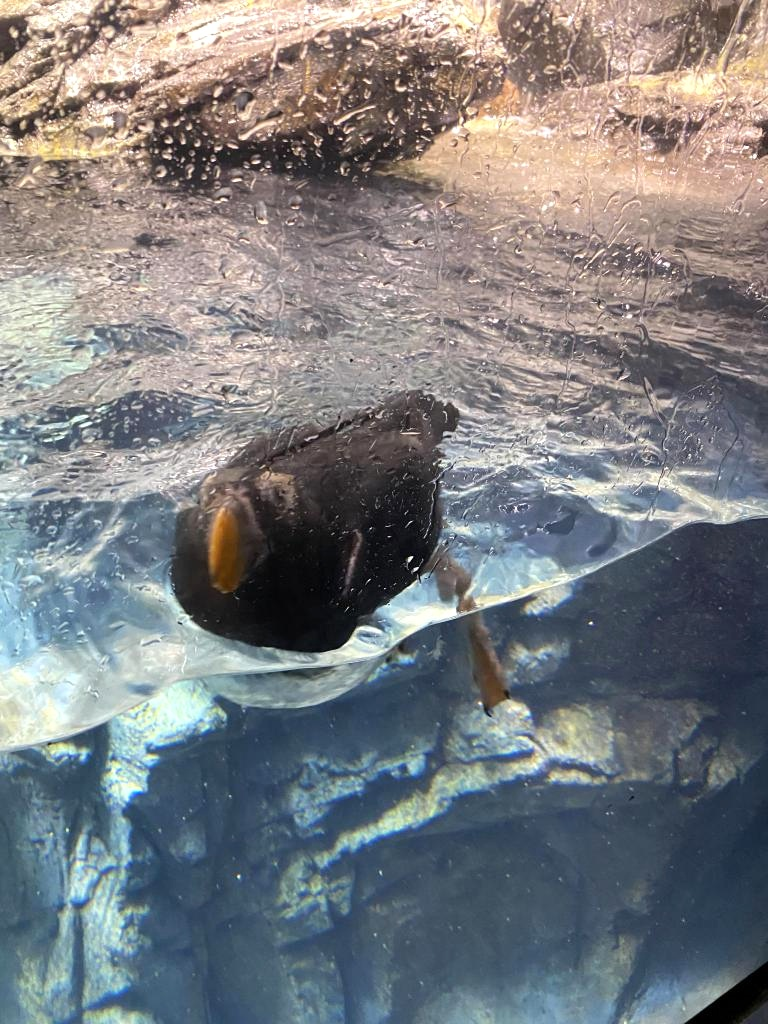puffin: (172, 391, 508, 717)
